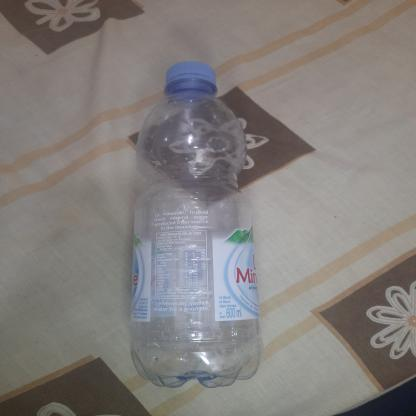bottle: (124, 59, 266, 391)
